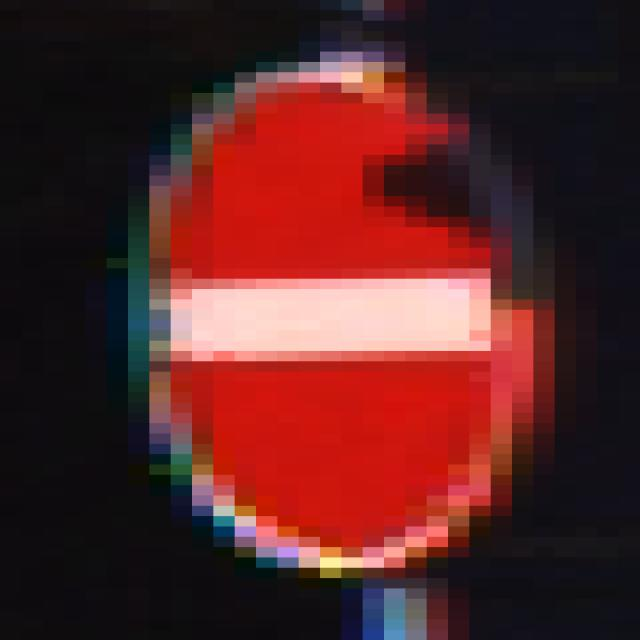No Entry: (108, 63, 534, 589)
